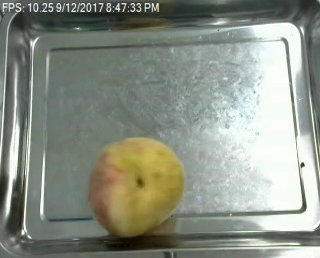Peach: (89, 137, 183, 236)
